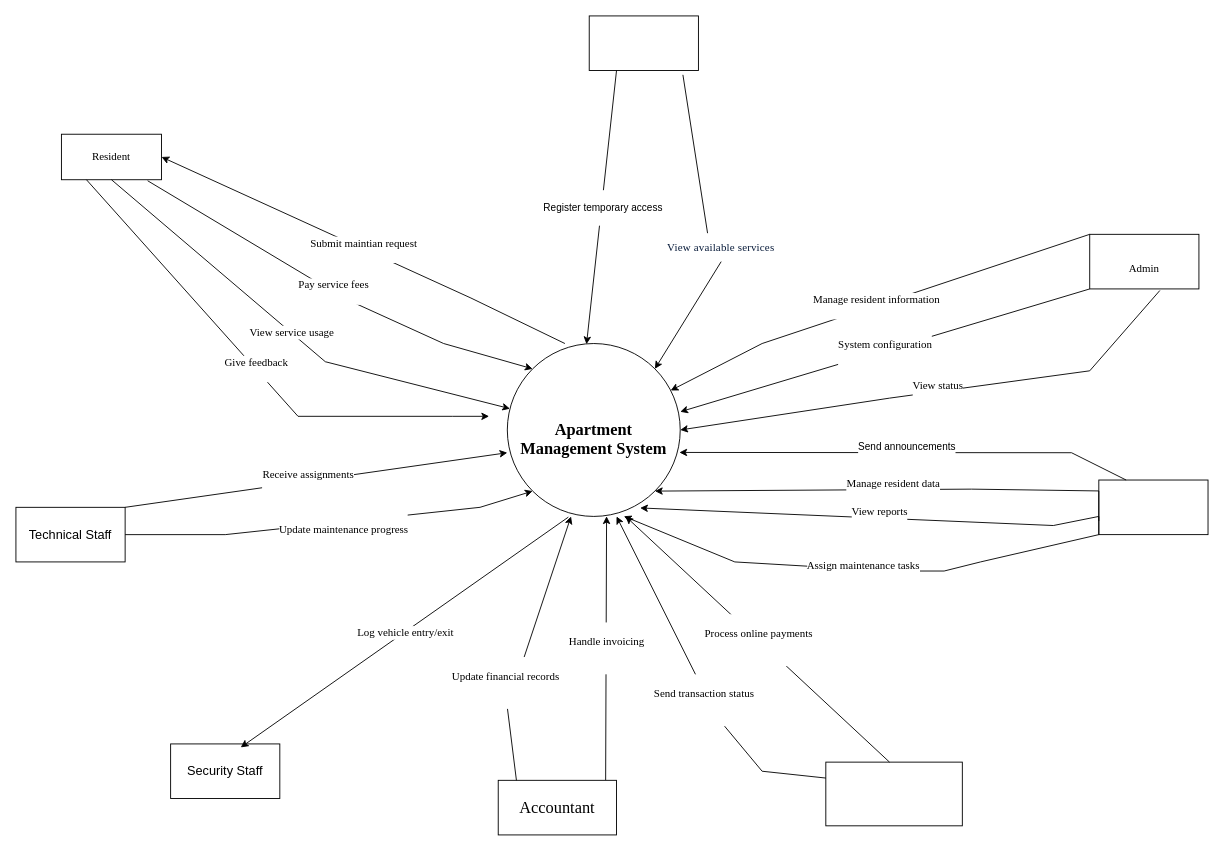
Some shapes in this 1224 by 851 pixel diagram are drawn without their labels. The shapes that lost their labels are listed below. From the top down, each one's centre as x and y in pixels, then its label:
At (x=643, y=43): "Guest".
At (x=1153, y=507): "Management Board".
At (x=893, y=793): "Payment Gateway".
